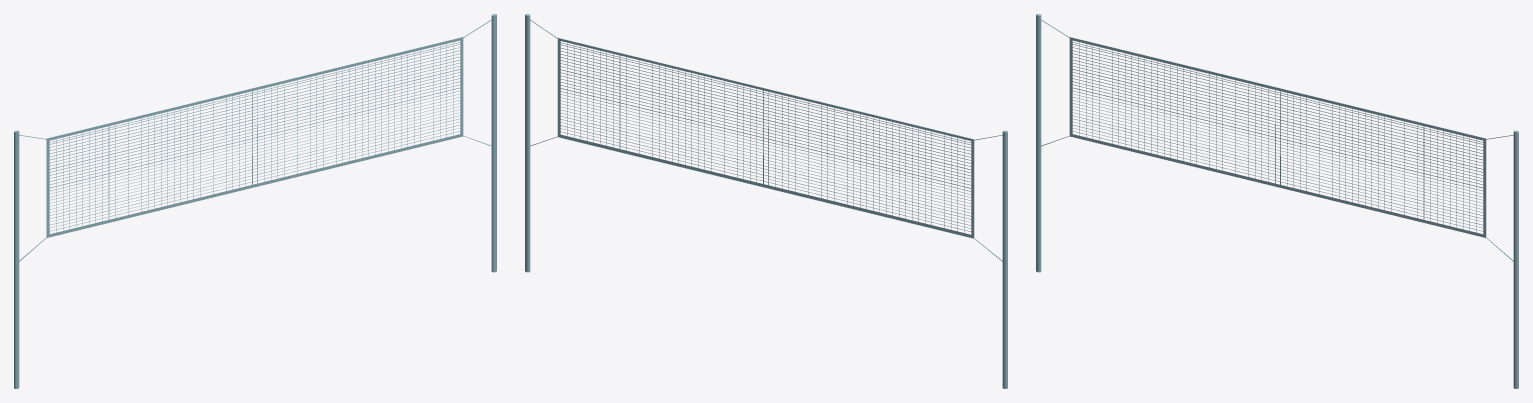
File: Netzv2.fbx
The picture shows the model from 3 angles, left to right: view 1: azimuth 30°, elevation 25°; view 2: azimuth 150°, elevation 25°; view 3: azimuth 330°, elevation 25°; orthographic projection.
Parts seen in each view (by area): view 1: Cube; view 2: Cube; view 3: Cube.
Part boxes in pixels (bbox=[...]): Cube: bbox=[14, 14, 496, 388]; Cube: bbox=[525, 14, 1007, 388]; Cube: bbox=[1036, 14, 1518, 388].
Bounding box in the file's own units: 1017 × 517 × 7.75.
